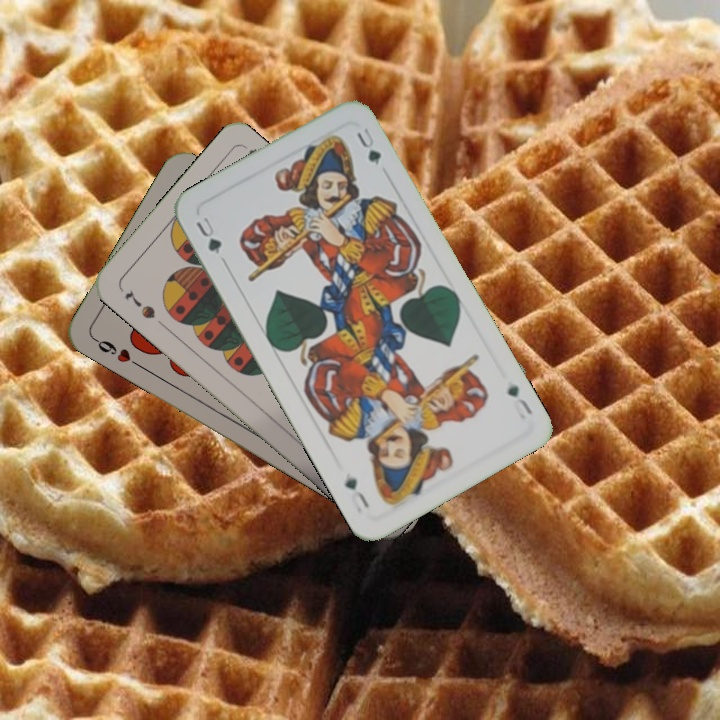GU: (191, 212, 228, 265), (503, 381, 536, 418)
H9: (89, 333, 142, 370)
S7: (120, 286, 158, 322)
